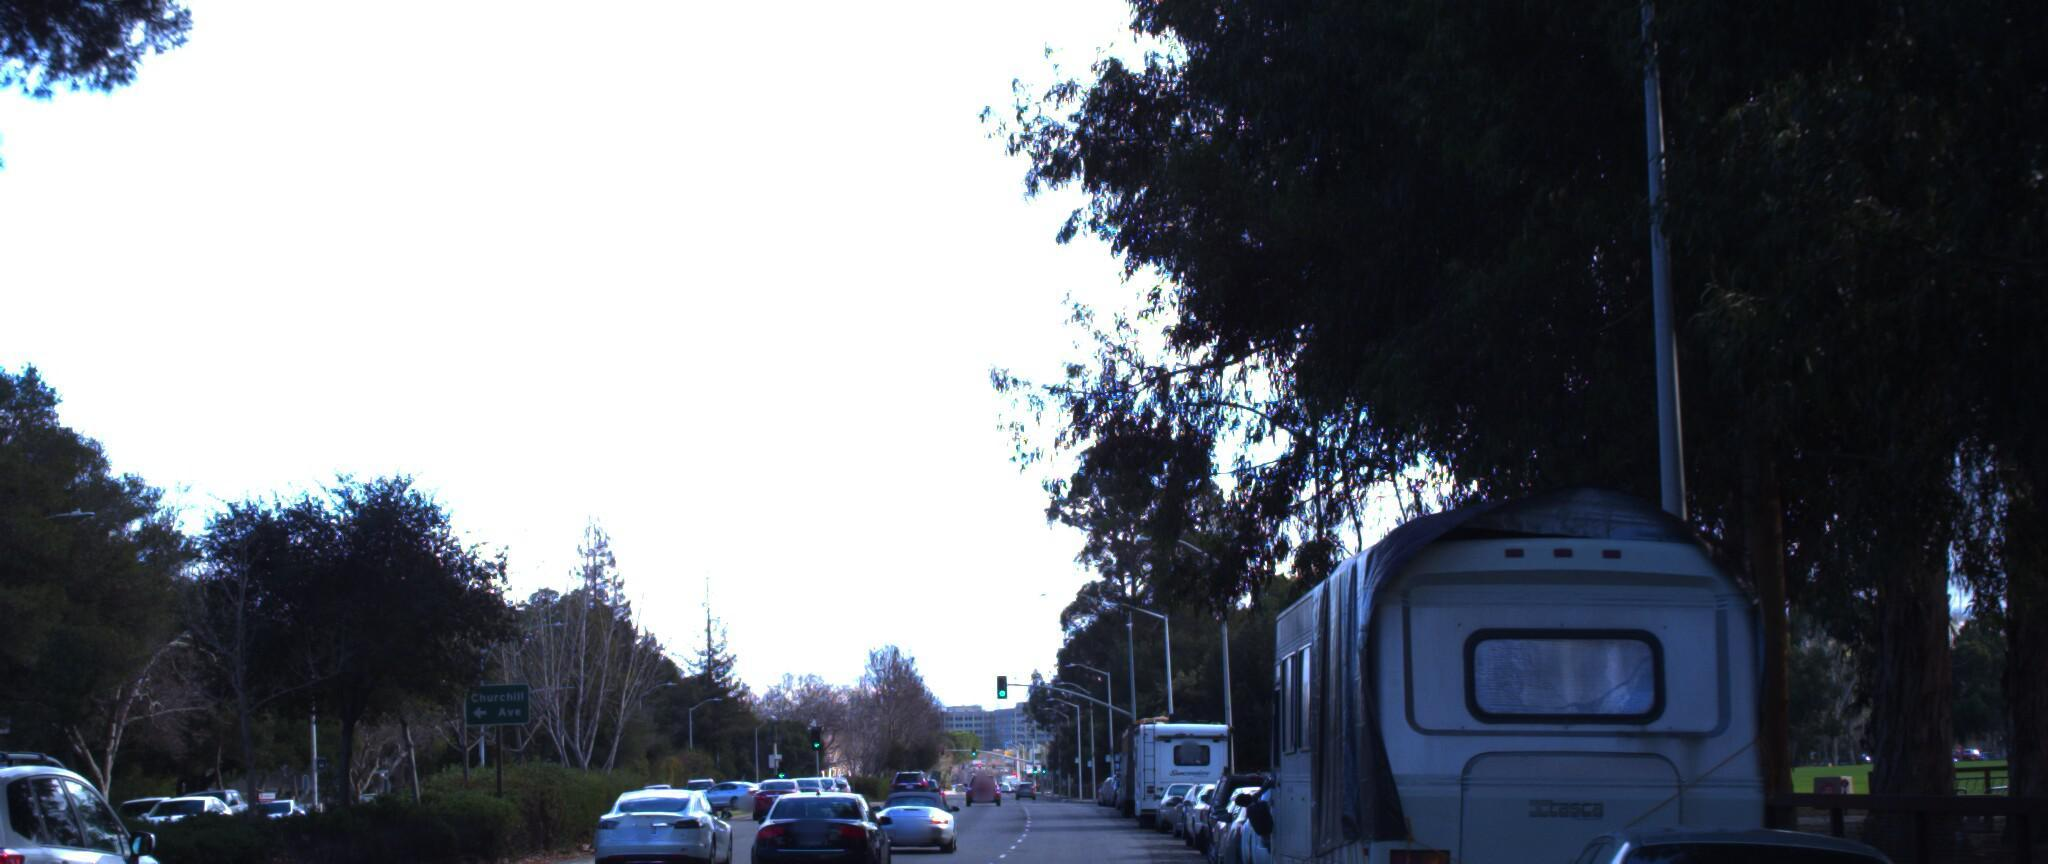car: (0, 728, 230, 864), (1505, 809, 2015, 864), (741, 760, 896, 864), (588, 774, 733, 864), (1198, 758, 1300, 857), (859, 764, 957, 852)
other_vehicle: (1250, 500, 1800, 864)
